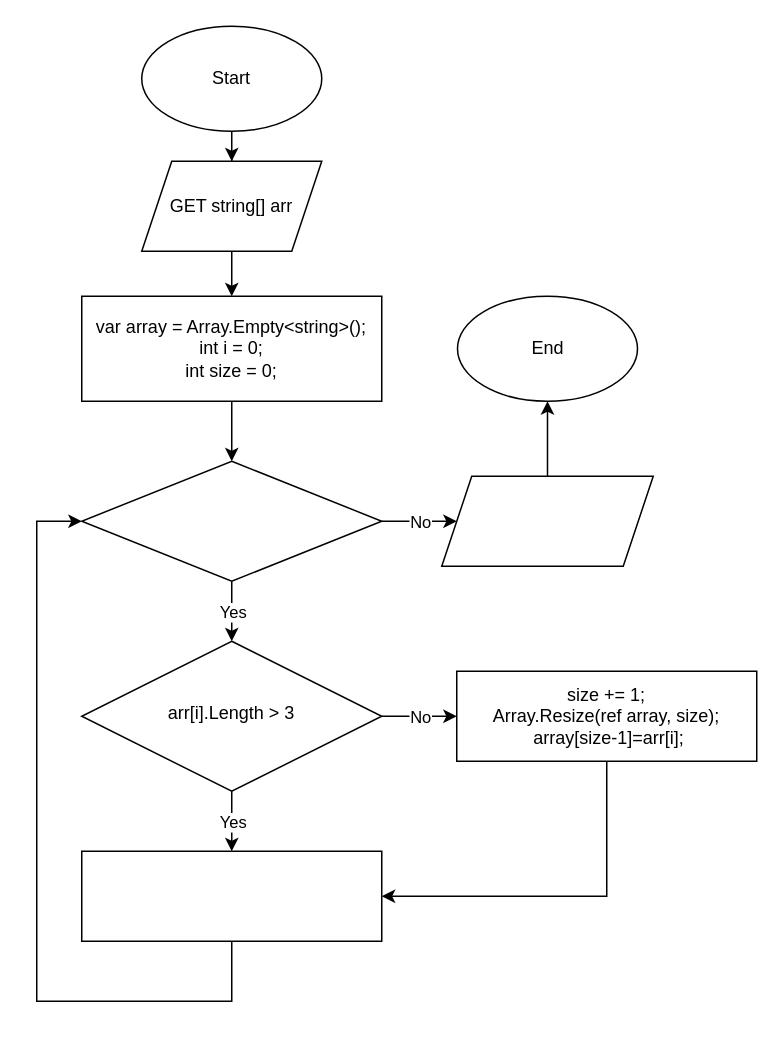
This 783x1040 diagram has some shape labels left out. Here are the shapes that lost their labels. From the top down, the box of each, then its label:
(80, 460, 382, 581): i < arr.Length;
(440, 475, 653, 566): return array;
(80, 850, 382, 941): i++;
